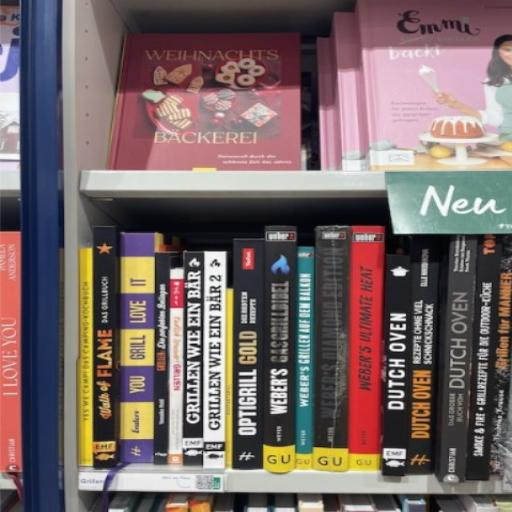bed: (110, 33, 300, 170), (349, 226, 385, 471), (262, 226, 297, 473), (0, 232, 23, 471)
road: (54, 0, 512, 512)
